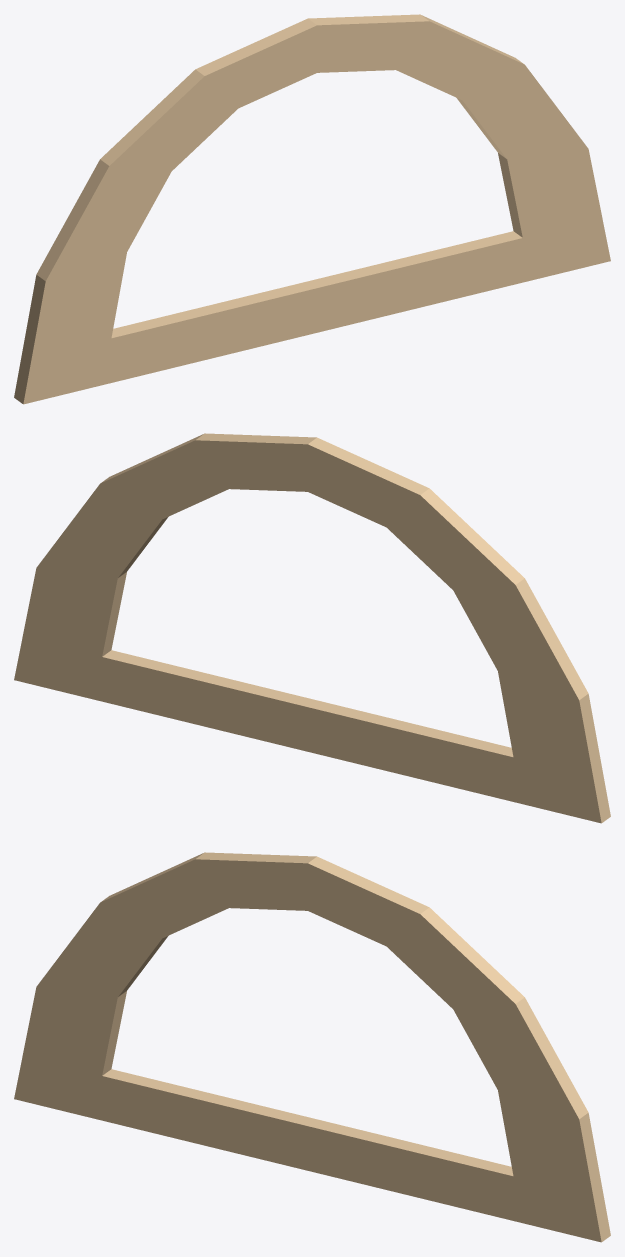
Rendered from roundRuler.fbx.
The picture shows the model from 3 angles, top to bottom: view 1: azimuth 30°, elevation 25°; view 2: azimuth 150°, elevation 25°; view 3: azimuth 330°, elevation 25°; orthographic projection.
Visible parts, largest first — view 1: Circle; view 2: Circle; view 3: Circle.
Part boxes in pixels (x1,y1,x2,y2): Circle: (14,14,610,404); Circle: (14,433,610,823); Circle: (14,852,610,1242).
Size of the model in its own units: 50 by 25 by 1.38.
